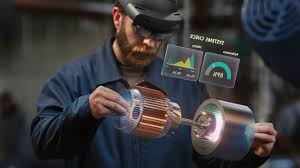hololens: (118, 1, 187, 41)
